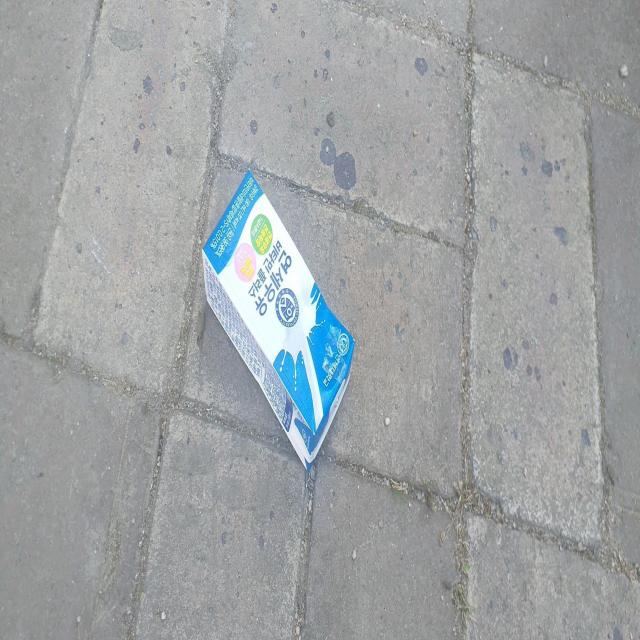paperpack: (202, 168, 355, 471)
